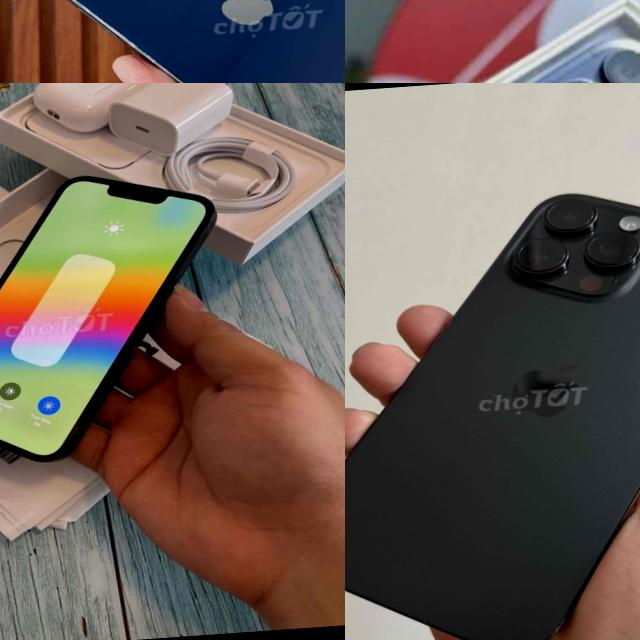gen_12_13: (0, 161, 236, 477), (0, 0, 345, 83)
gen_16: (345, 194, 640, 640)
